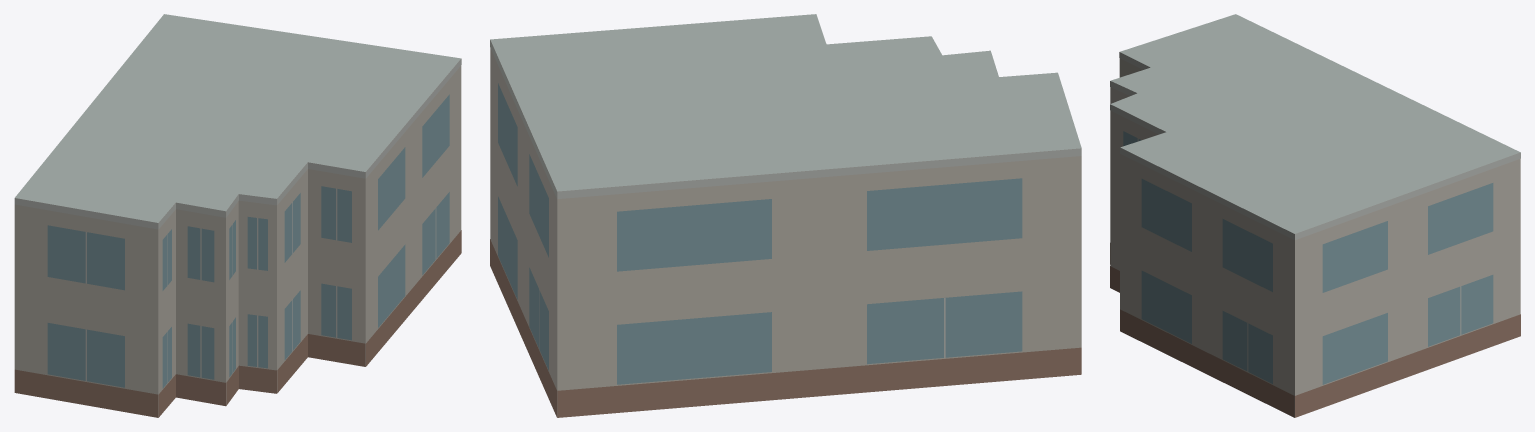
File: survey-upis-32902877.glb
The picture shows the model from 3 angles, left to right: view 1: azimuth 30°, elevation 25°; view 2: azimuth 150°, elevation 25°; view 3: azimuth 270°, elevation 25°; orthographic projection. The views are drawn at different scales.
Visible parts, largest first — view 1: survey-upis-32902877.tmp; view 2: survey-upis-32902877.tmp; view 3: survey-upis-32902877.tmp.
Part boxes in pixels (left/top/right/bottom): survey-upis-32902877.tmp: left=14, top=14, right=461, bottom=417; survey-upis-32902877.tmp: left=490, top=14, right=1081, bottom=417; survey-upis-32902877.tmp: left=1110, top=14, right=1520, bottom=417.
Size of the model in its own units: 18.5 by 7.2 by 14.58.
